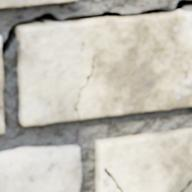brick: (17, 11, 191, 125), (95, 128, 191, 191), (0, 0, 76, 7), (0, 36, 4, 133), (182, 181, 191, 191)
broken_brick: (0, 144, 80, 191)
crack: (1, 0, 191, 61), (74, 55, 94, 118), (103, 166, 122, 191), (179, 178, 191, 191)
